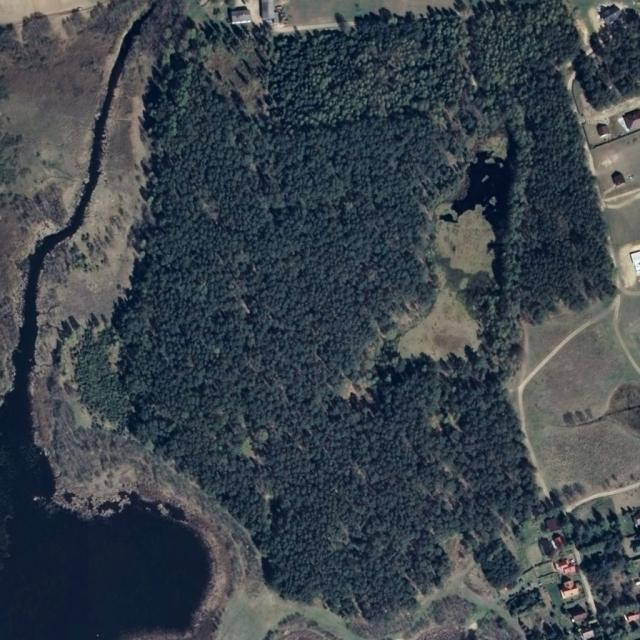agricultural_land: (215, 584, 361, 640), (199, 1, 455, 31), (0, 0, 105, 24)
building: (621, 606, 640, 629)
dryland: (514, 70, 640, 511), (0, 0, 105, 24)
